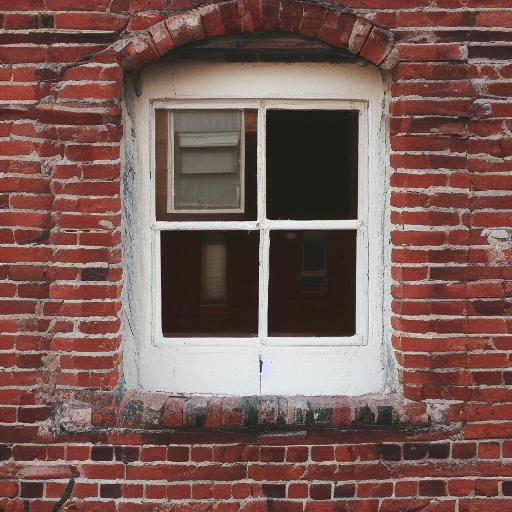Window: (44, 4, 466, 436)
